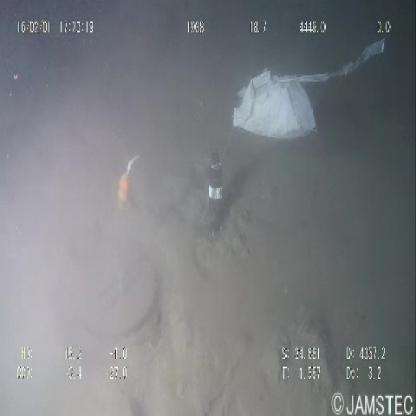Rov: (63, 138, 228, 346)
Rác: (231, 36, 385, 146)
